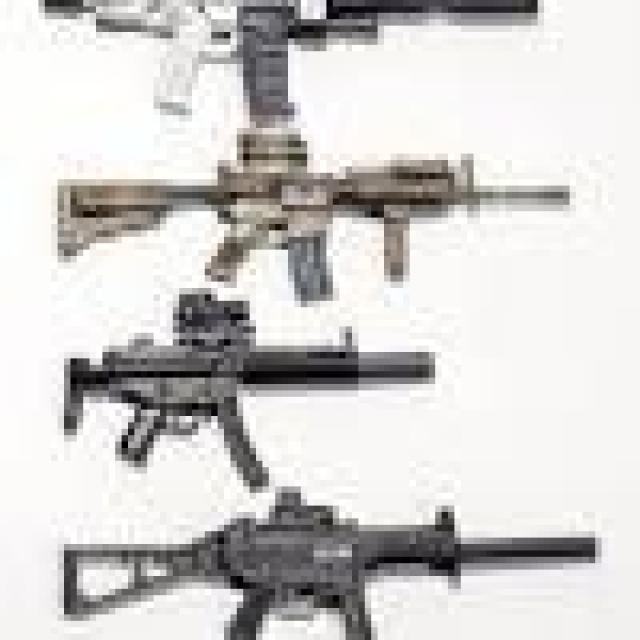Gun: (67, 485, 593, 640)
